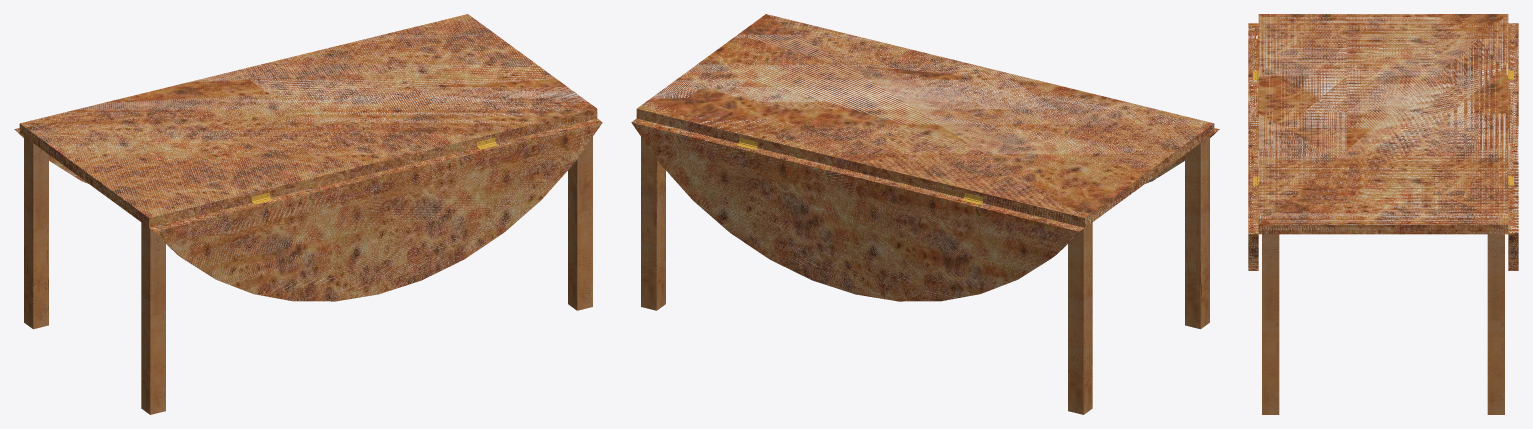
The picture shows the model from 3 angles, left to right: view 1: azimuth 30°, elevation 25°; view 2: azimuth 150°, elevation 25°; view 3: azimuth 270°, elevation 25°; orthographic projection. The views are drawn at different scales.
Parts seen in each view (by area): view 1: mesh41_mesh41-geometry, mesh1_mesh1-geometry; view 2: mesh41_mesh41-geometry, mesh1_mesh1-geometry; view 3: mesh41_mesh41-geometry, mesh1_mesh1-geometry.
Part boxes in pixels (box(x1,y1,x2,y2)): mesh41_mesh41-geometry: box(14, 14, 602, 301); mesh1_mesh1-geometry: box(24, 136, 592, 414); mesh41_mesh41-geometry: box(631, 14, 1219, 301); mesh1_mesh1-geometry: box(641, 136, 1209, 414); mesh41_mesh41-geometry: box(1248, 14, 1518, 270); mesh1_mesh1-geometry: box(1262, 234, 1504, 414).
Bounding box in the file's own units: 0.824 × 0.3491 × 0.4463.
